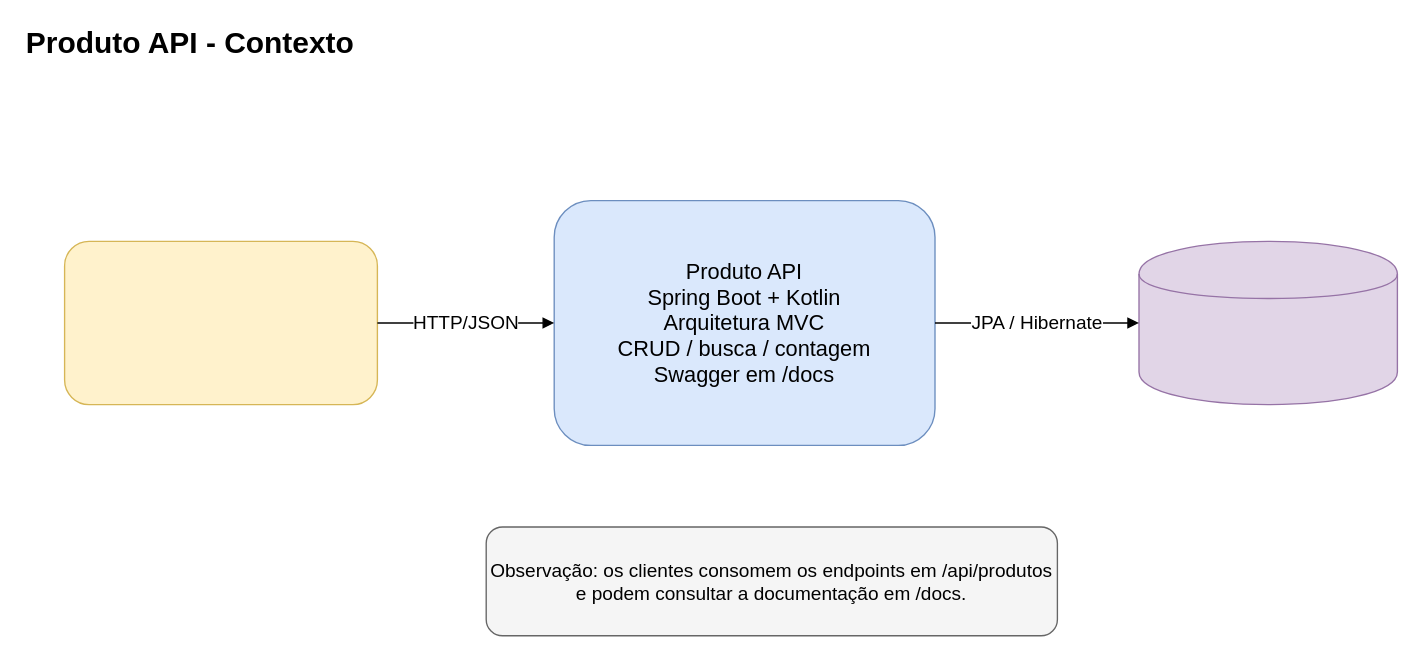
The diagram is 1421 pixels wide and 660 high, and some of its shapes have lost their labels. The centre of each missing label's shape, as x and y in pixels:
"Clientes HTTP - Postman - Browser - App Mobile" belongs at (x=220, y=322).
"H2 Database Banco em memória Tabela: produtos" belongs at (x=1267, y=322).
